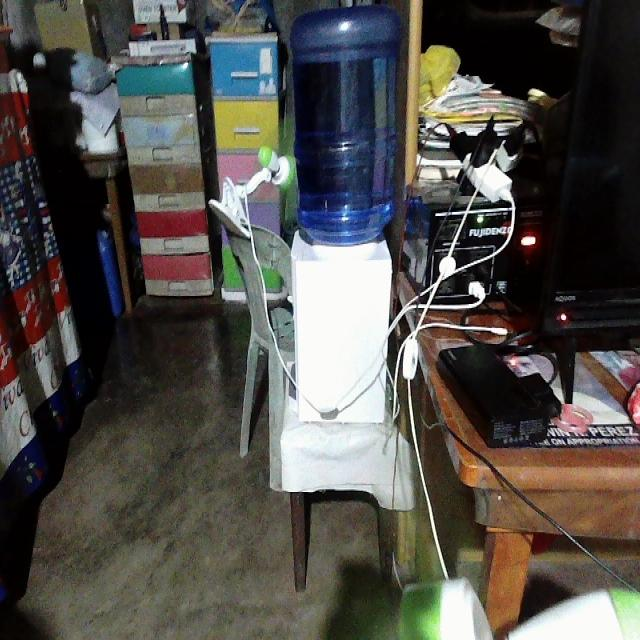-: (448, 103, 525, 204)
